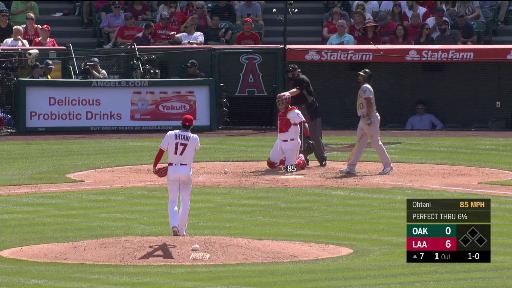pitcher: (153, 115, 200, 236)
